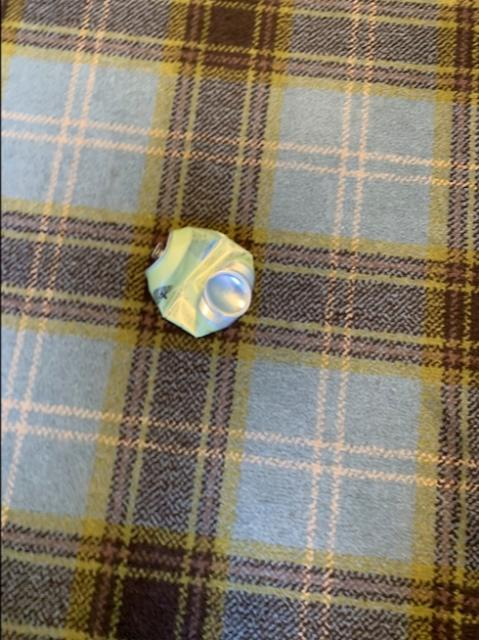metal: (146, 229, 255, 339)
